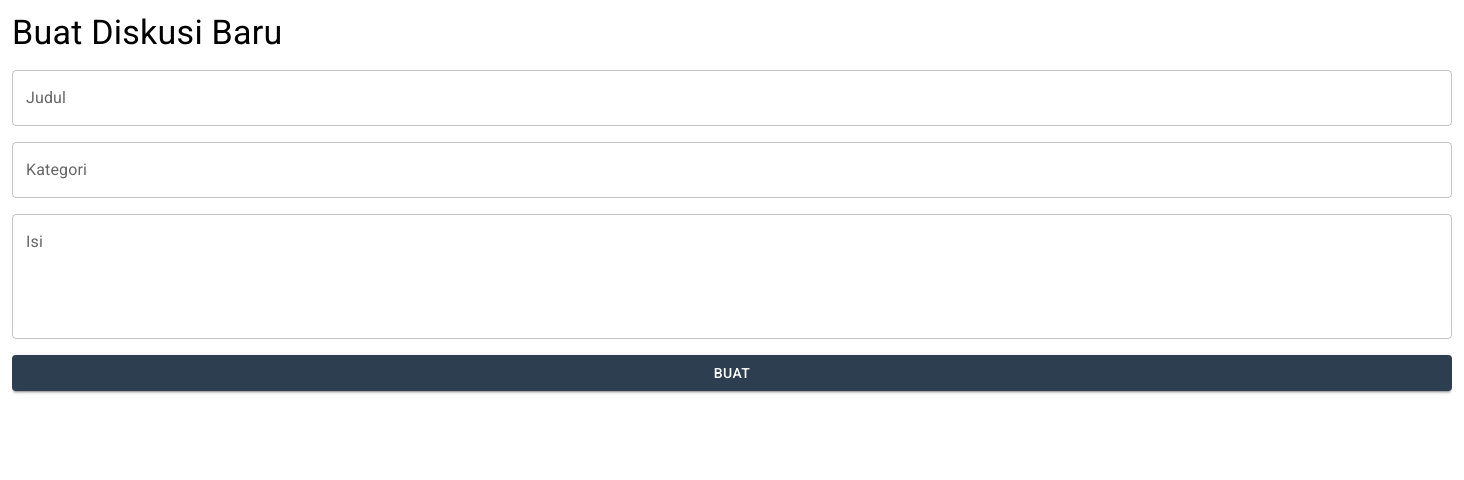
Test case: NewThreadForm component › should display error when submitting an empty form
This screenshot has width=1464, height=480.
Click the button "Buat" at coordinates (732, 373), box x1=12 y1=355 x2=1452 y2=392
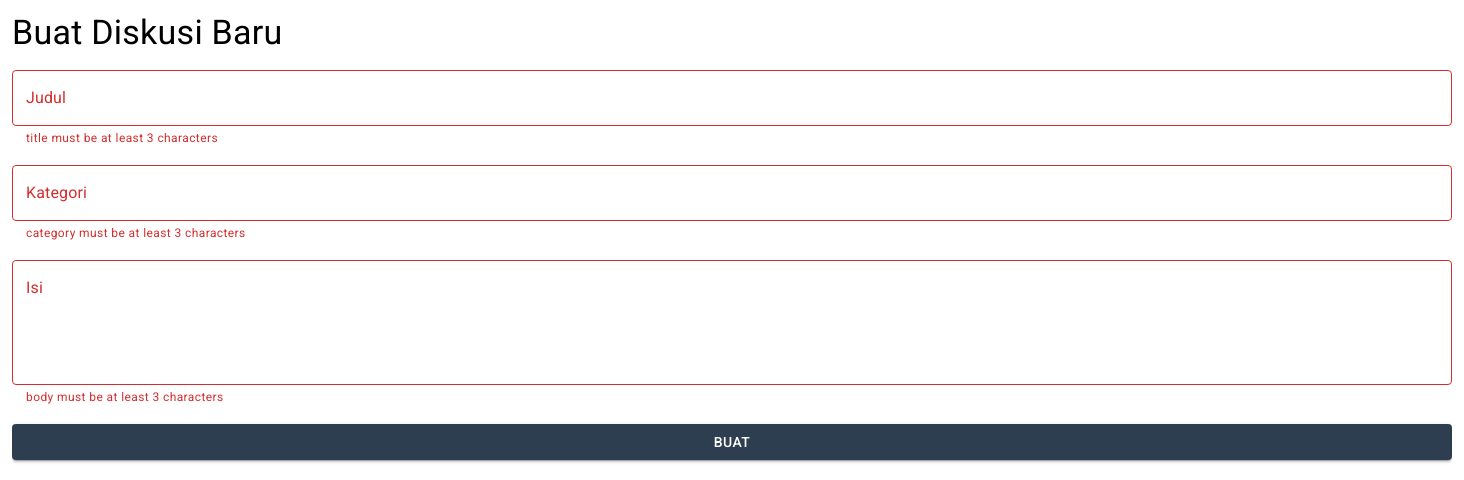
Result: the text "title must be at least 3 characters" is shown at x1=26 y1=131 x2=218 y2=145
Result: the text "category must be at least 3 characters" is shown at x1=26 y1=226 x2=246 y2=240
Result: the text "body must be at least 3 characters" is shown at x1=26 y1=390 x2=224 y2=404
